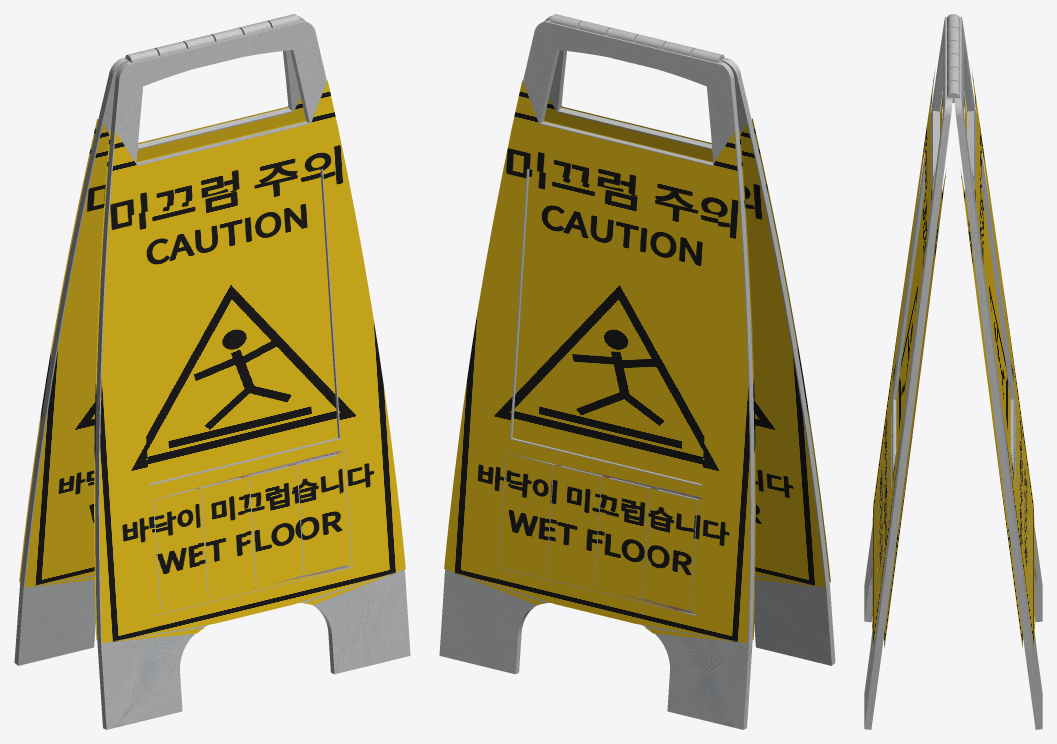
Rendered from WetFloorSign.obj.
3 views of the same model, side by side, from view 1: azimuth 30°, elevation 25°; view 2: azimuth 150°, elevation 25°; view 3: azimuth 270°, elevation 25° (orthographic). The views are drawn at different scales.
Parts seen in each view (by area): view 1: Material2; view 2: Material2; view 3: Material2.
Boxes of the visible parts, x1,y1,x2,y2 form: Material2: (14, 14, 410, 729); Material2: (439, 14, 835, 729); Material2: (864, 14, 1042, 729).
Size of the model in its own units: 0.3257 by 0.64 by 0.171.
